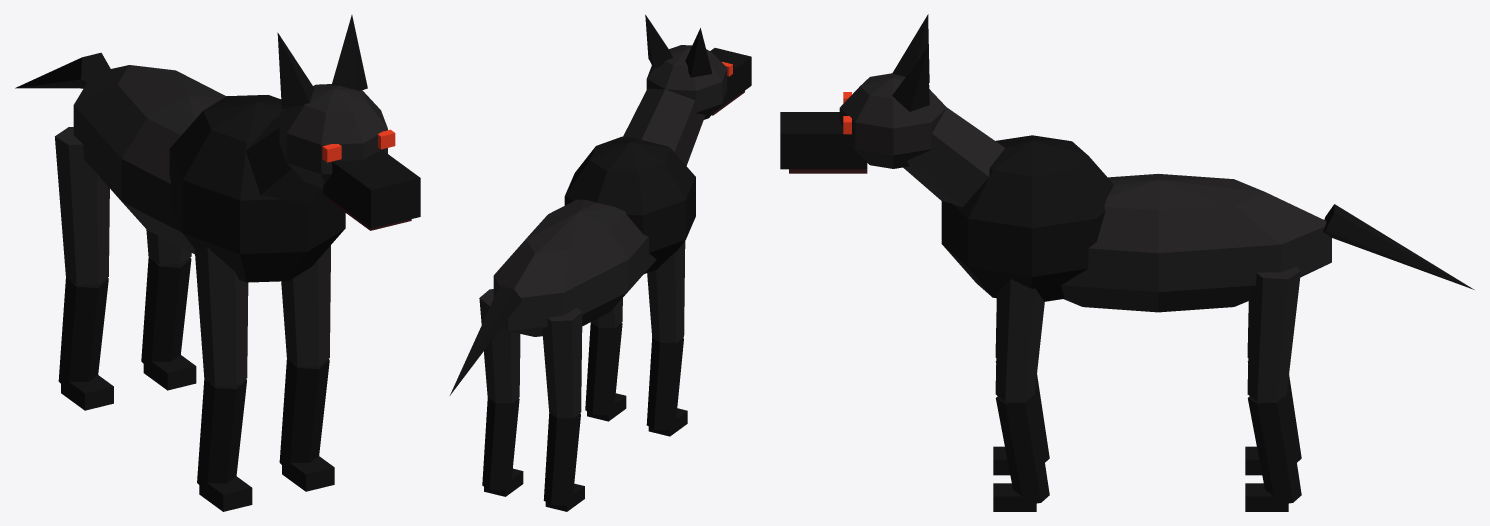
Rendered from Hound_Black.glb.
The picture shows the model from 3 angles, left to right: view 1: azimuth 30°, elevation 25°; view 2: azimuth 150°, elevation 25°; view 3: azimuth 270°, elevation 25°; orthographic projection. The views are drawn at different scales.
Size of the model in its own units: 0.3614 by 1.16 by 1.6.
Materials: 1 (1 with a texture image).
